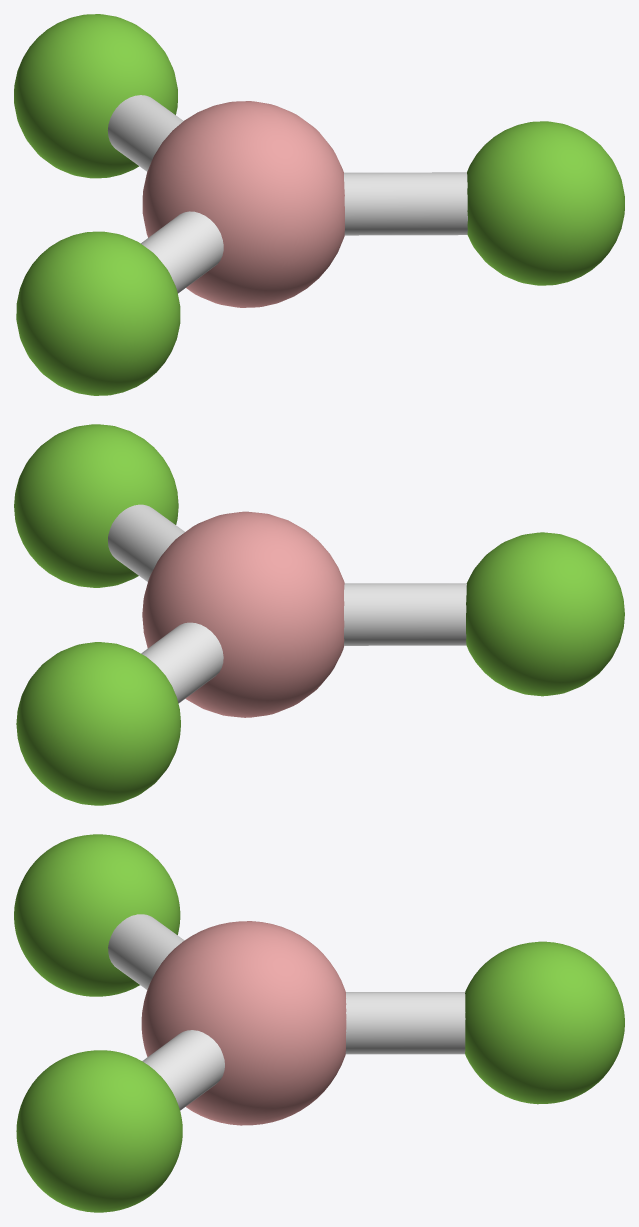
The picture shows the model from 3 angles, top to bottom: view 1: azimuth 30°, elevation 25°; view 2: azimuth 150°, elevation 25°; view 3: azimuth 270°, elevation 25°; orthographic projection.
Parts seen in each view (by area): view 1: Boron; view 2: Boron; view 3: Boron.
Boxes of the visible parts, x1,y1,x2,y2 form: Boron: (14, 14, 624, 395); Boron: (14, 424, 624, 805); Boron: (14, 834, 624, 1212).
Size of the model in its own units: 297 by 90.1 by 269.
